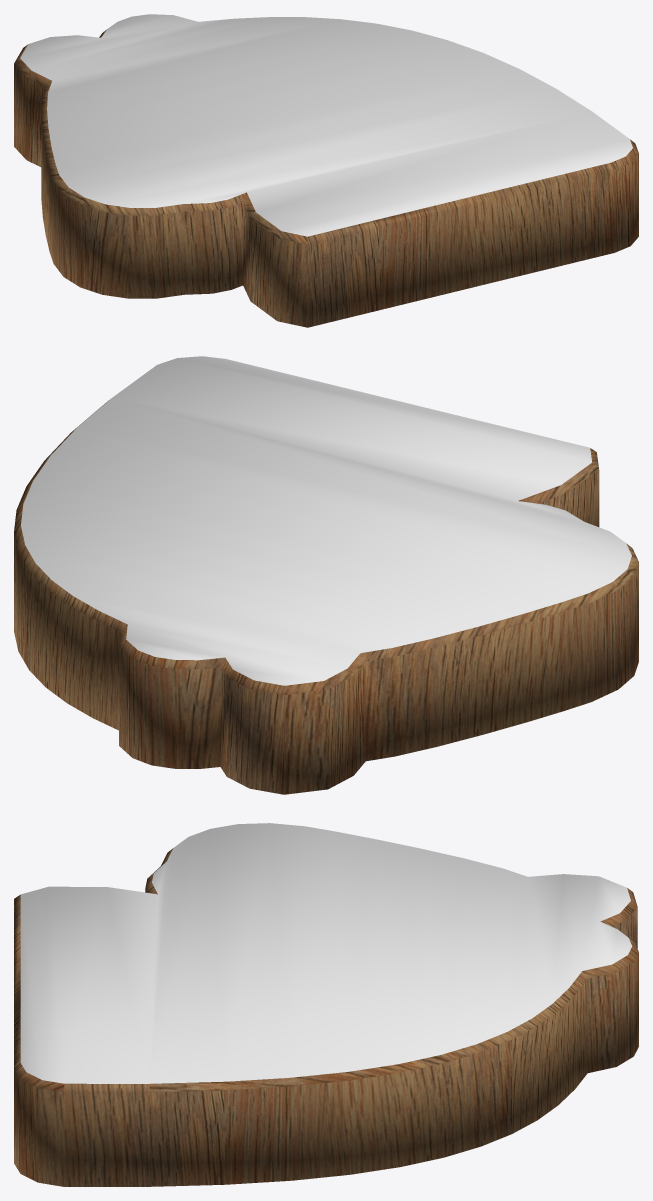
File: flat3dpieces-knight.gltf
3 views of the same model, one above another, from view 1: azimuth 30°, elevation 25°; view 2: azimuth 150°, elevation 25°; view 3: azimuth 270°, elevation 25° (orthographic). The views are drawn at different scales.
Bounding box in the file's own units: 1.45 × 0.255 × 1.44.
2 materials, 1 textured.
